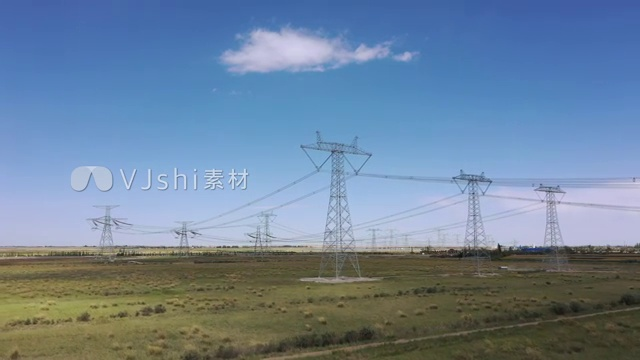tower_body: (298, 128, 378, 287), (447, 162, 504, 278), (529, 179, 576, 276)
tower_foot: (319, 242, 363, 282), (458, 250, 498, 275), (540, 252, 572, 272)
tower_head: (301, 131, 375, 160), (450, 166, 493, 185), (532, 183, 571, 194)
